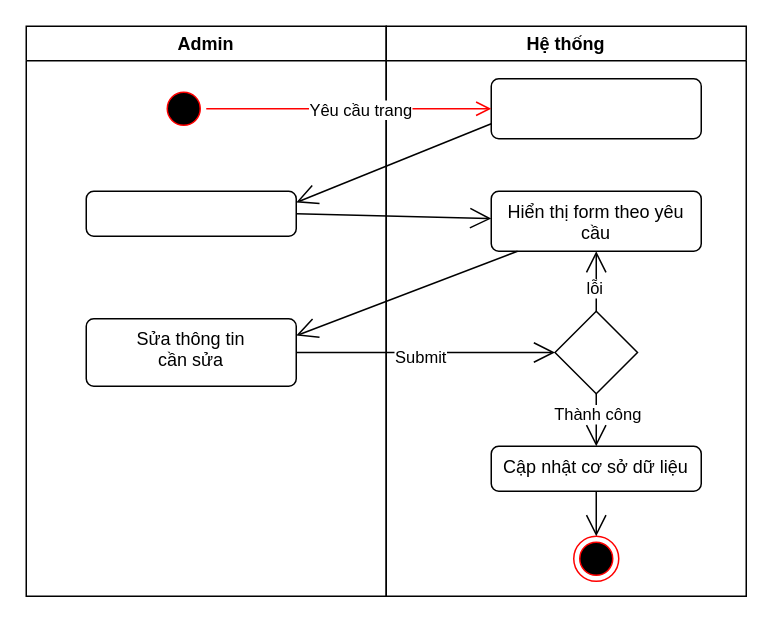
Some shapes in this 773 by 623 pixel diagram are drawn without their labels. Here are the shapes that lost their labels. From the top down, the centre of each, then its label:
the point at 595,108: Hiển thị trang quản lý chương
the point at 190,213: Chọn sửa chương
the point at 596,352: kiểm tra
